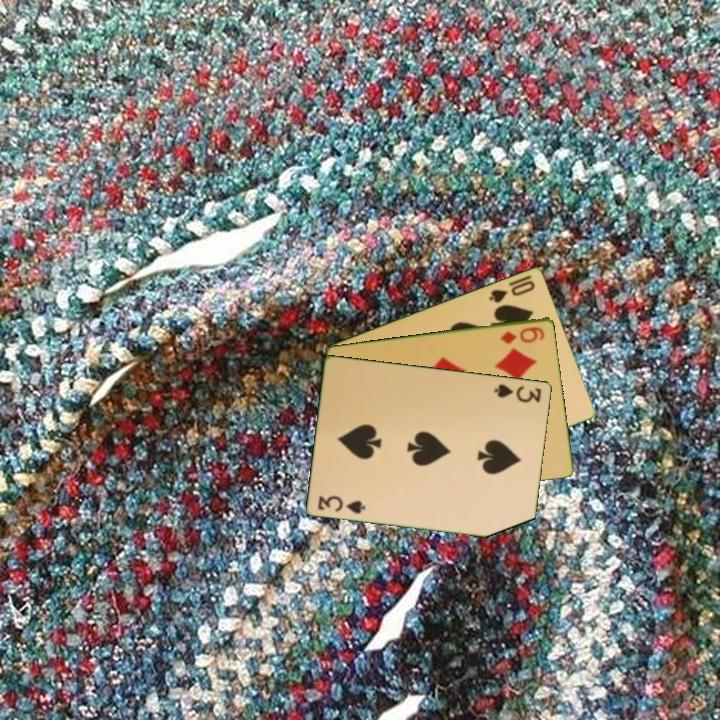10s: (485, 276, 538, 305)
3s: (491, 380, 545, 405), (315, 492, 369, 516)
6d: (497, 323, 547, 347)
